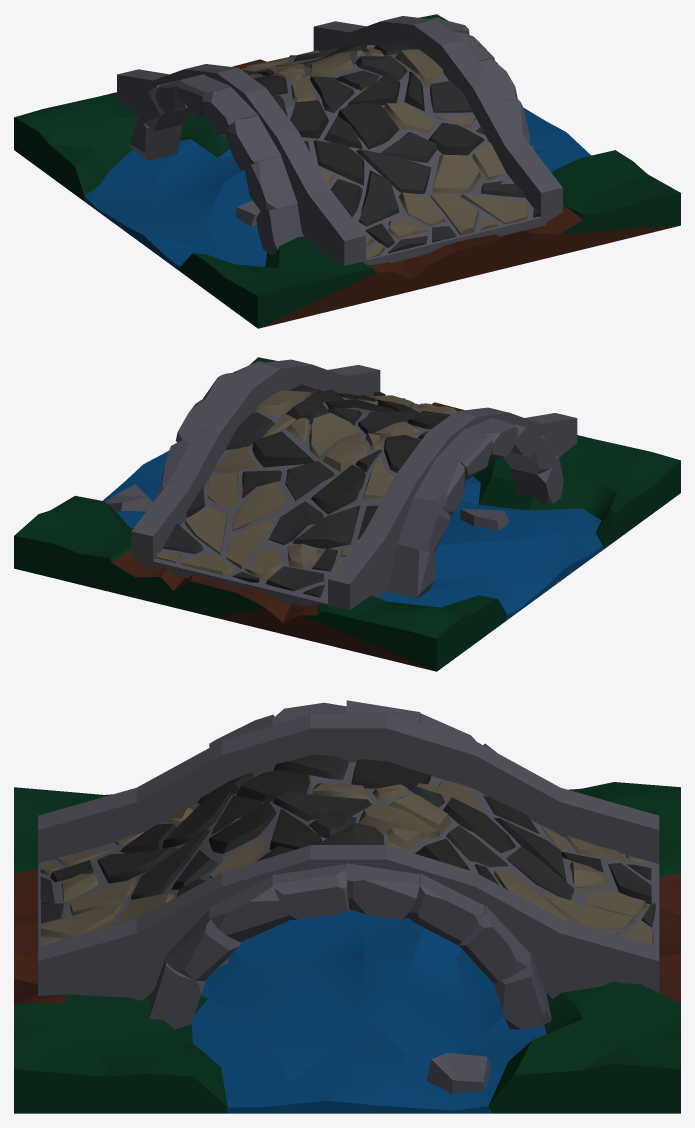
File: Bridge_V.001.fbx
3 views of the same model, one above another, from view 1: azimuth 30°, elevation 25°; view 2: azimuth 150°, elevation 25°; view 3: azimuth 270°, elevation 25° (orthographic). The views are drawn at different scales.
Parts seen in each view (by area): view 1: Bridge_V.001; view 2: Bridge_V.001; view 3: Bridge_V.001.
Part boxes in pixels (x1,y1,x2,y2): Bridge_V.001: (14,14,680,328); Bridge_V.001: (14,357,680,671); Bridge_V.001: (14,700,680,1113).
Size of the model in its own units: 147 by 44.02 by 147.
